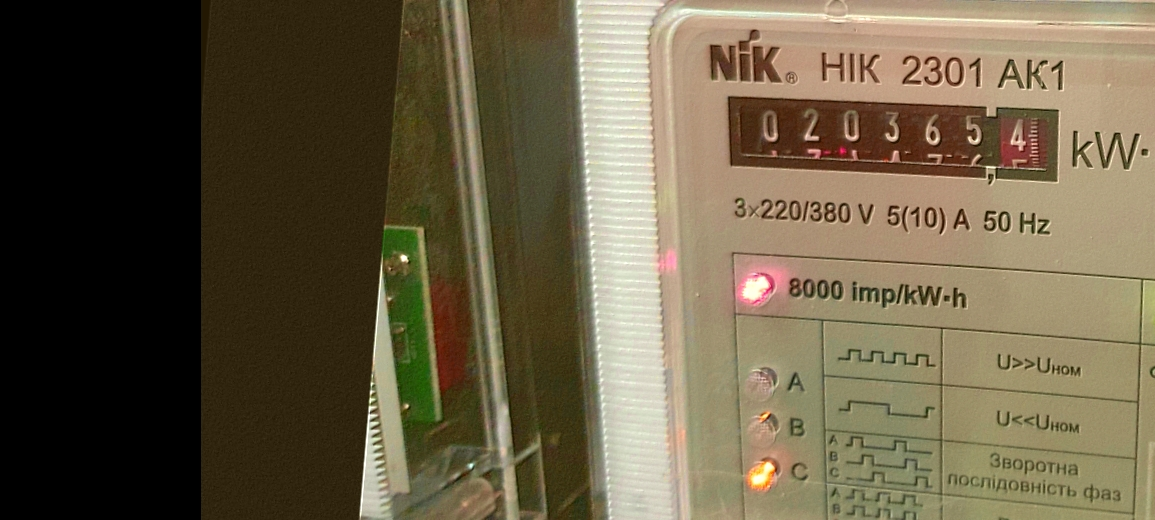0: (842, 107, 864, 144), (760, 108, 783, 143)
2: (799, 106, 825, 143)
3: (883, 107, 904, 144)
4: (1009, 116, 1030, 152)
5: (964, 113, 986, 147)
6: (923, 110, 945, 147)
screen: (707, 70, 1083, 204)
